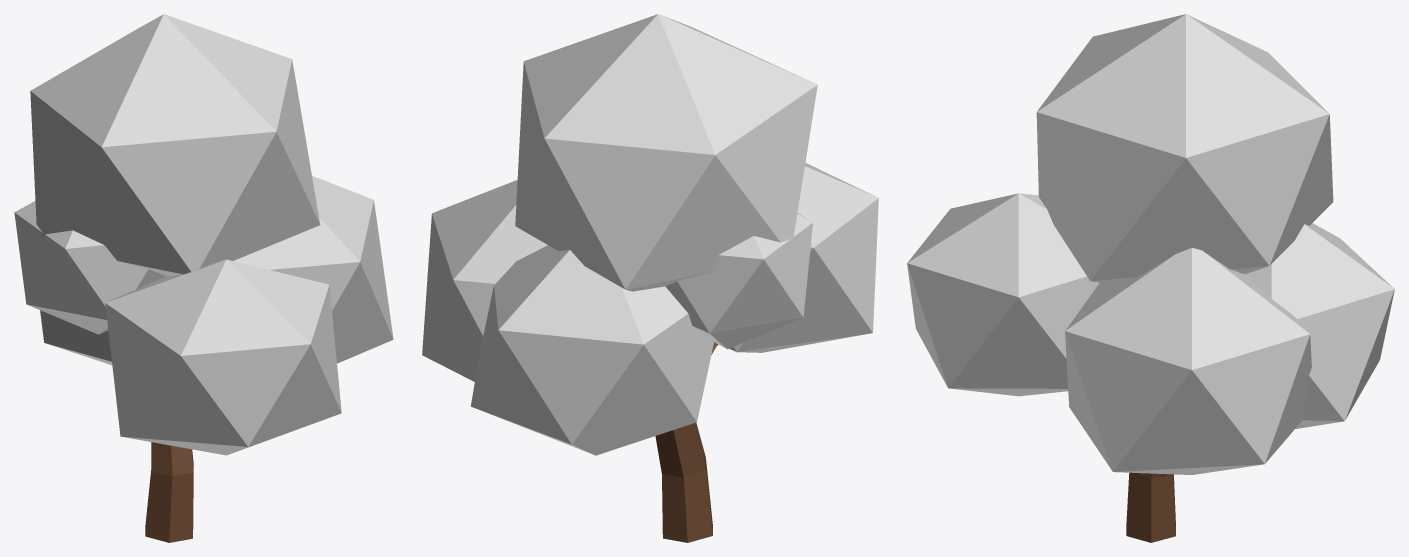
File: tree_blossom_1.glb
3 renders of one model, left to right at view 1: azimuth 30°, elevation 25°; view 2: azimuth 150°, elevation 25°; view 3: azimuth 270°, elevation 25°, orthographic. The views are drawn at different scales.
Parts seen in each view (by area): view 1: tree_blossom_1; view 2: tree_blossom_1; view 3: tree_blossom_1.
Part boxes in pixels (x1=…): tree_blossom_1: x1=14, y1=14, x2=393, y2=542; tree_blossom_1: x1=422, y1=14, x2=878, y2=542; tree_blossom_1: x1=907, y1=14, x2=1394, y2=542.
Size of the model in its own units: 3.83 by 5.26 by 4.45.
